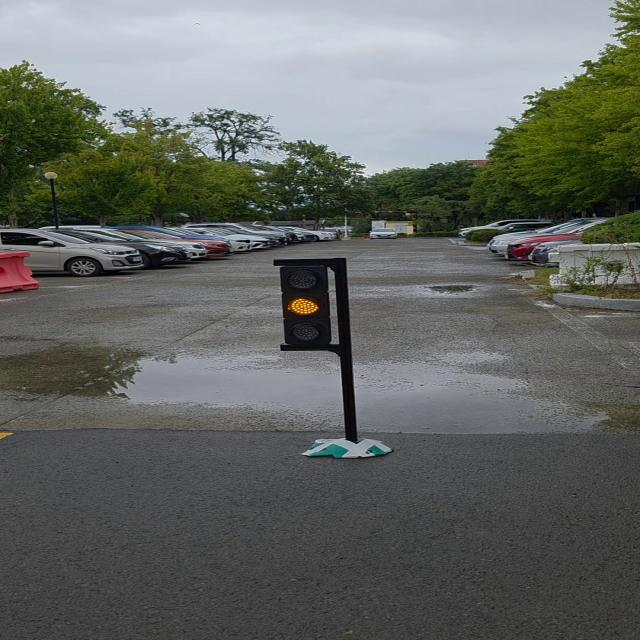yellow: (280, 260, 336, 348)
